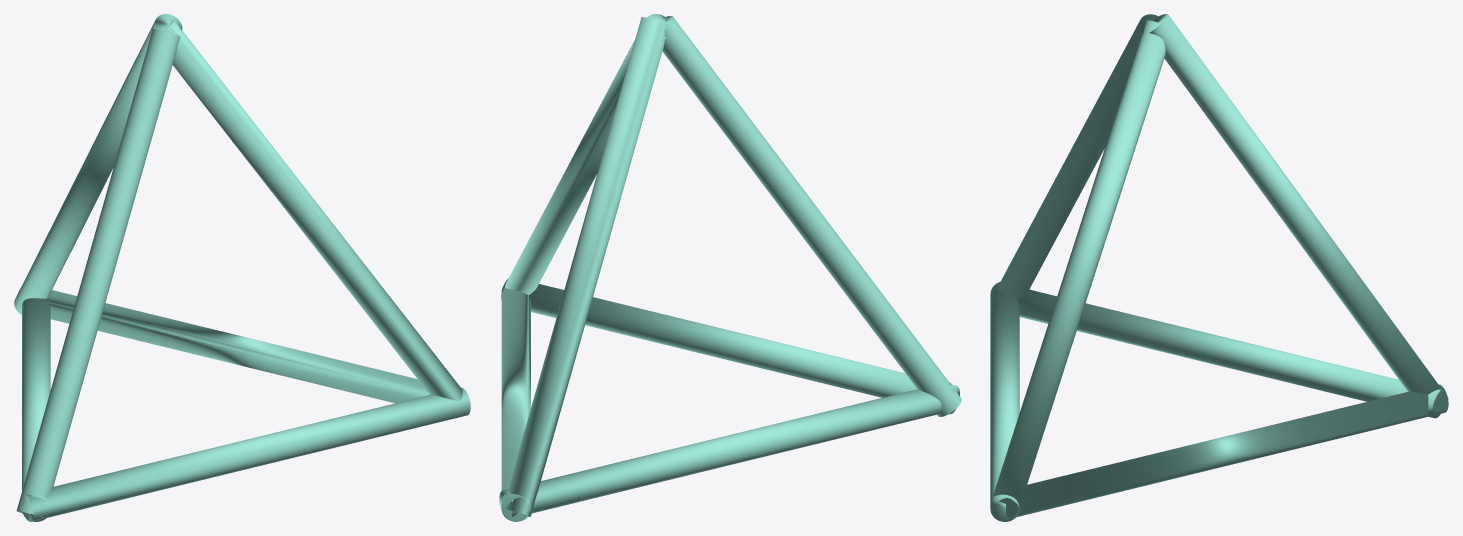
The model's file is tetraedro.fbx.
3 views of the same model, side by side, from view 1: azimuth 30°, elevation 25°; view 2: azimuth 150°, elevation 25°; view 3: azimuth 270°, elevation 25° (orthographic).
Parts seen in each view (by area): view 1: Cilindro.003; view 2: Cilindro.003; view 3: Cilindro.003.
Boxes of the visible parts, <box> form: Cilindro.003: <box>14,14,470,521</box>; Cilindro.003: <box>499,14,961,521</box>; Cilindro.003: <box>990,14,1448,521</box>.
Size of the model in its own units: 6.11 by 5.15 by 5.36.
